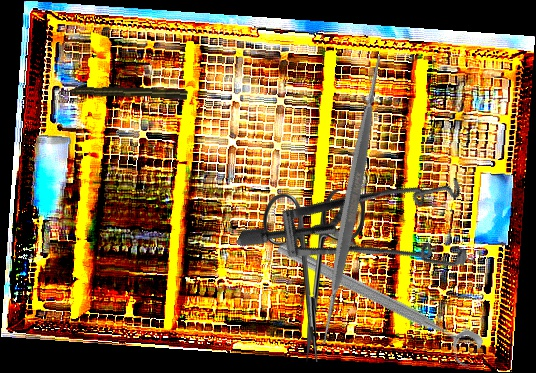Fixation Ring: (267, 235, 486, 372)
Handpiece: (58, 84, 188, 101)
Iris Scissors: (263, 190, 365, 362)
Spatula Surgical: (200, 47, 503, 352)
Speculum: (235, 100, 499, 345)
